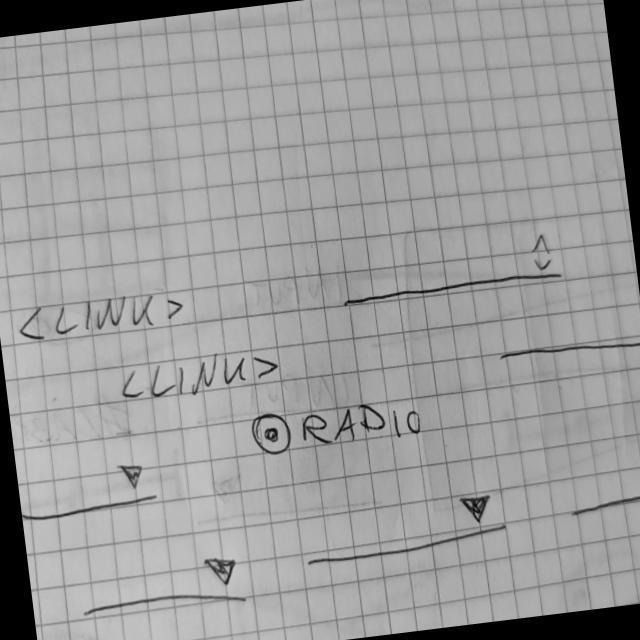link: (16, 283, 188, 346), (118, 345, 285, 409)
number-input: (336, 227, 566, 312), (490, 288, 640, 370), (562, 447, 640, 521)
radio: (248, 392, 426, 462)
select: (300, 490, 513, 572), (74, 551, 251, 627), (18, 455, 163, 525)
